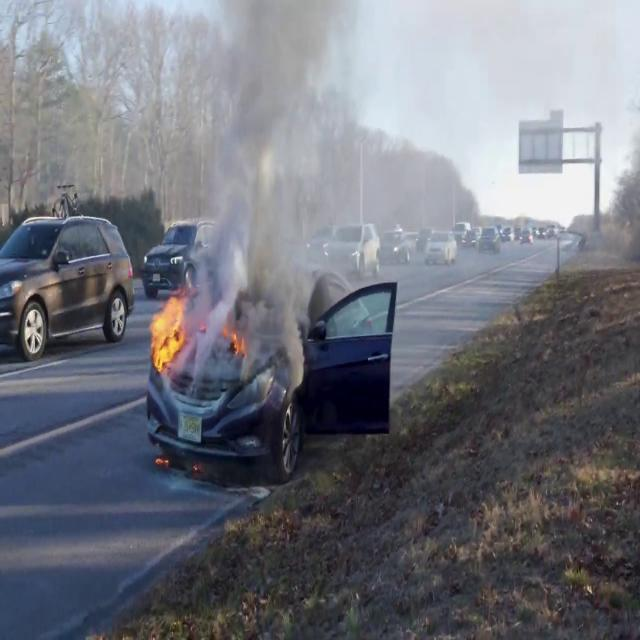Fire: (147, 286, 190, 374)
Smoke: (184, 1, 364, 378), (570, 7, 640, 270)
